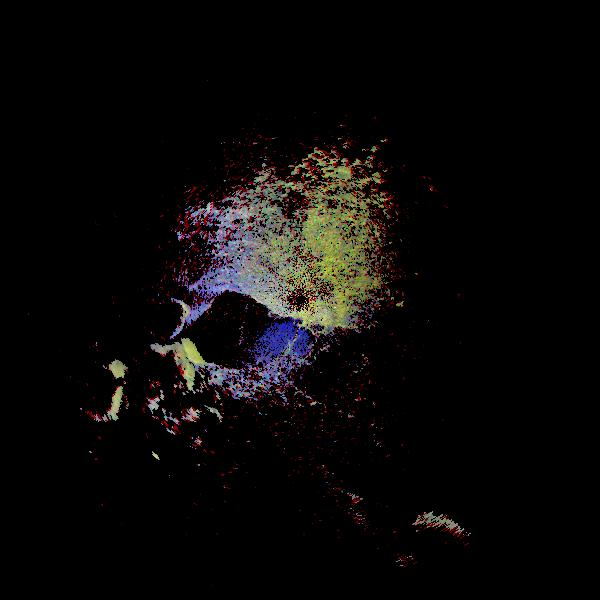roost: (116, 317, 221, 422), (381, 495, 486, 600), (52, 341, 151, 440)
